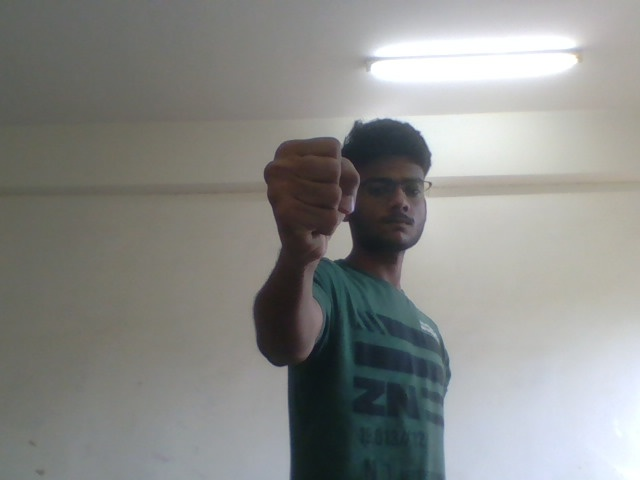Stop: (253, 131, 377, 286)
